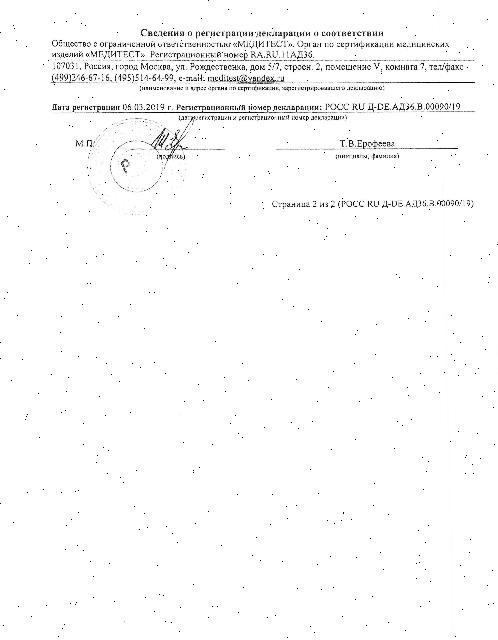stamp: (86, 116, 186, 210)
